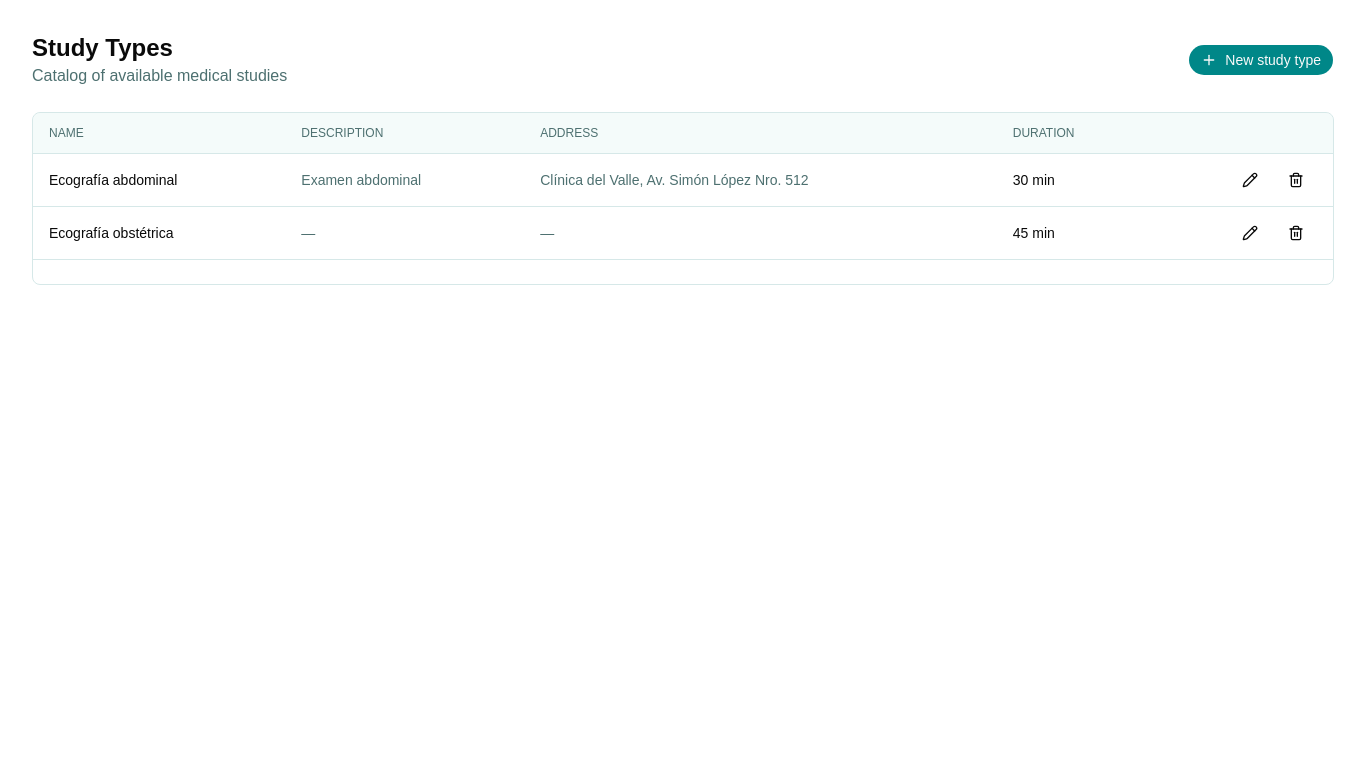
Scenario: StudyTypesPage › opens create dialog on button click
Click the button "New study type".
click(1261, 60)  # box [1188, 44, 1334, 76]
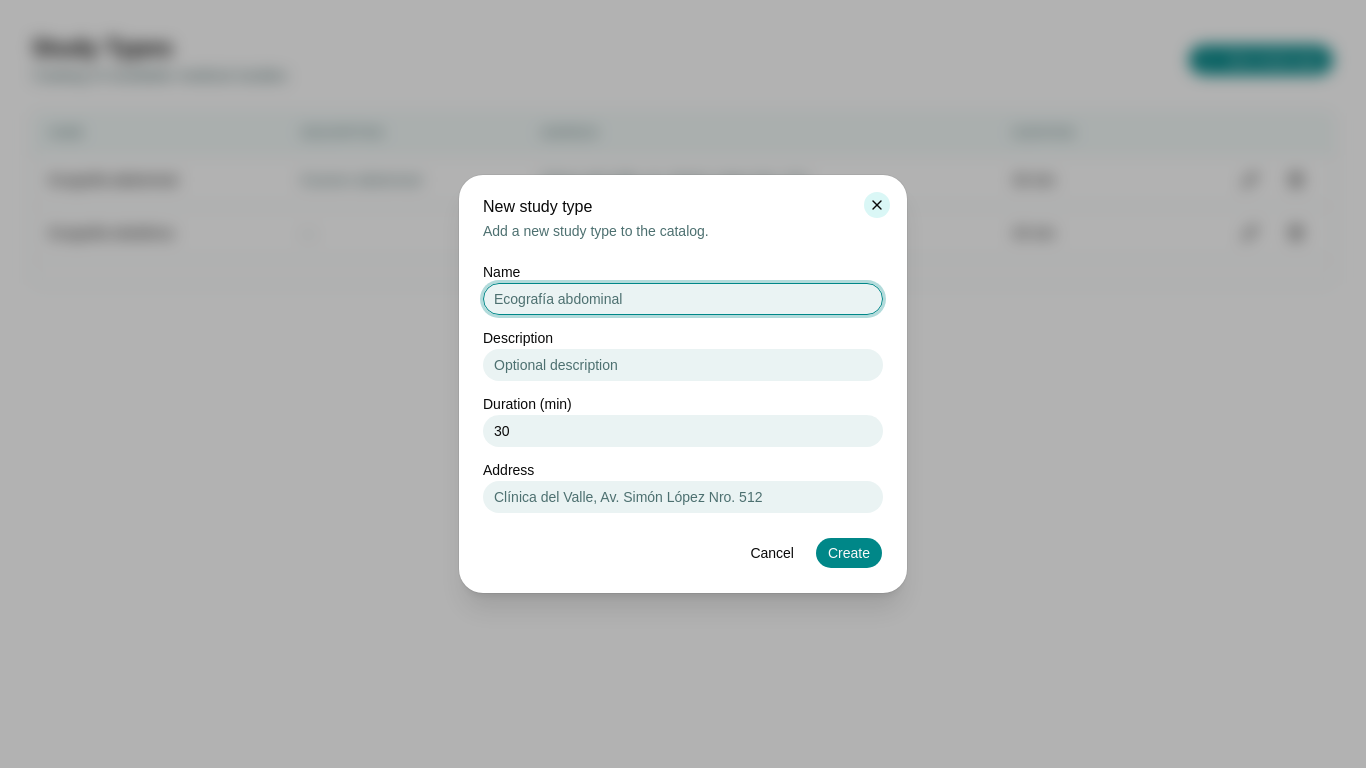
Expected: the dialog is shown, [459, 175, 907, 593]
Expected: the heading "New study type" is shown, [483, 198, 592, 215]
